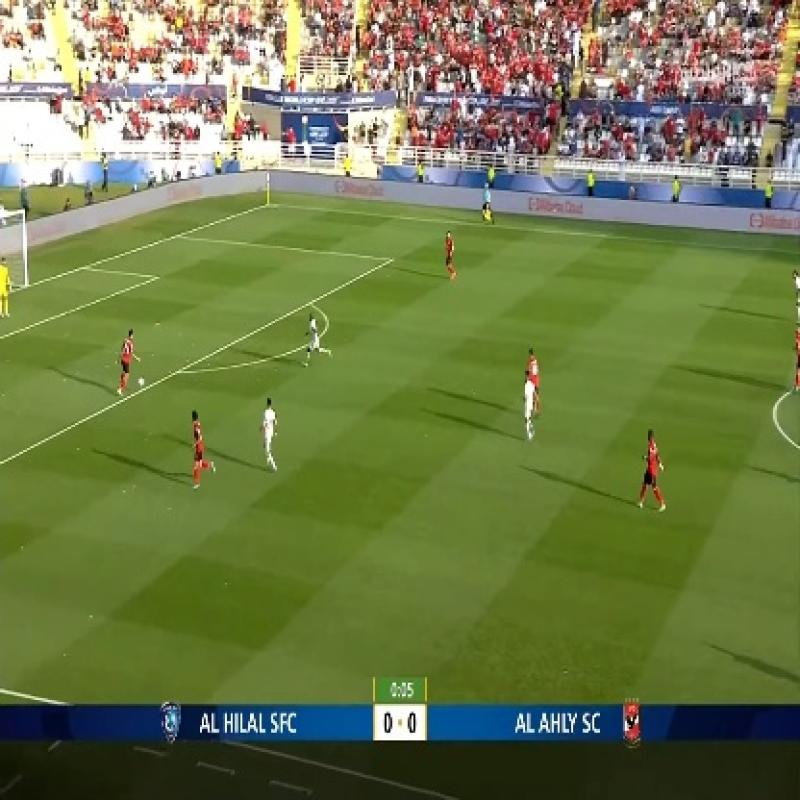1: (258, 194, 277, 210)
10: (300, 290, 318, 312)
11: (168, 358, 188, 380)
2: (169, 224, 185, 242)
3: (75, 254, 94, 275)
7: (144, 268, 162, 284)
9: (380, 248, 396, 267)
c: (762, 390, 786, 425)
